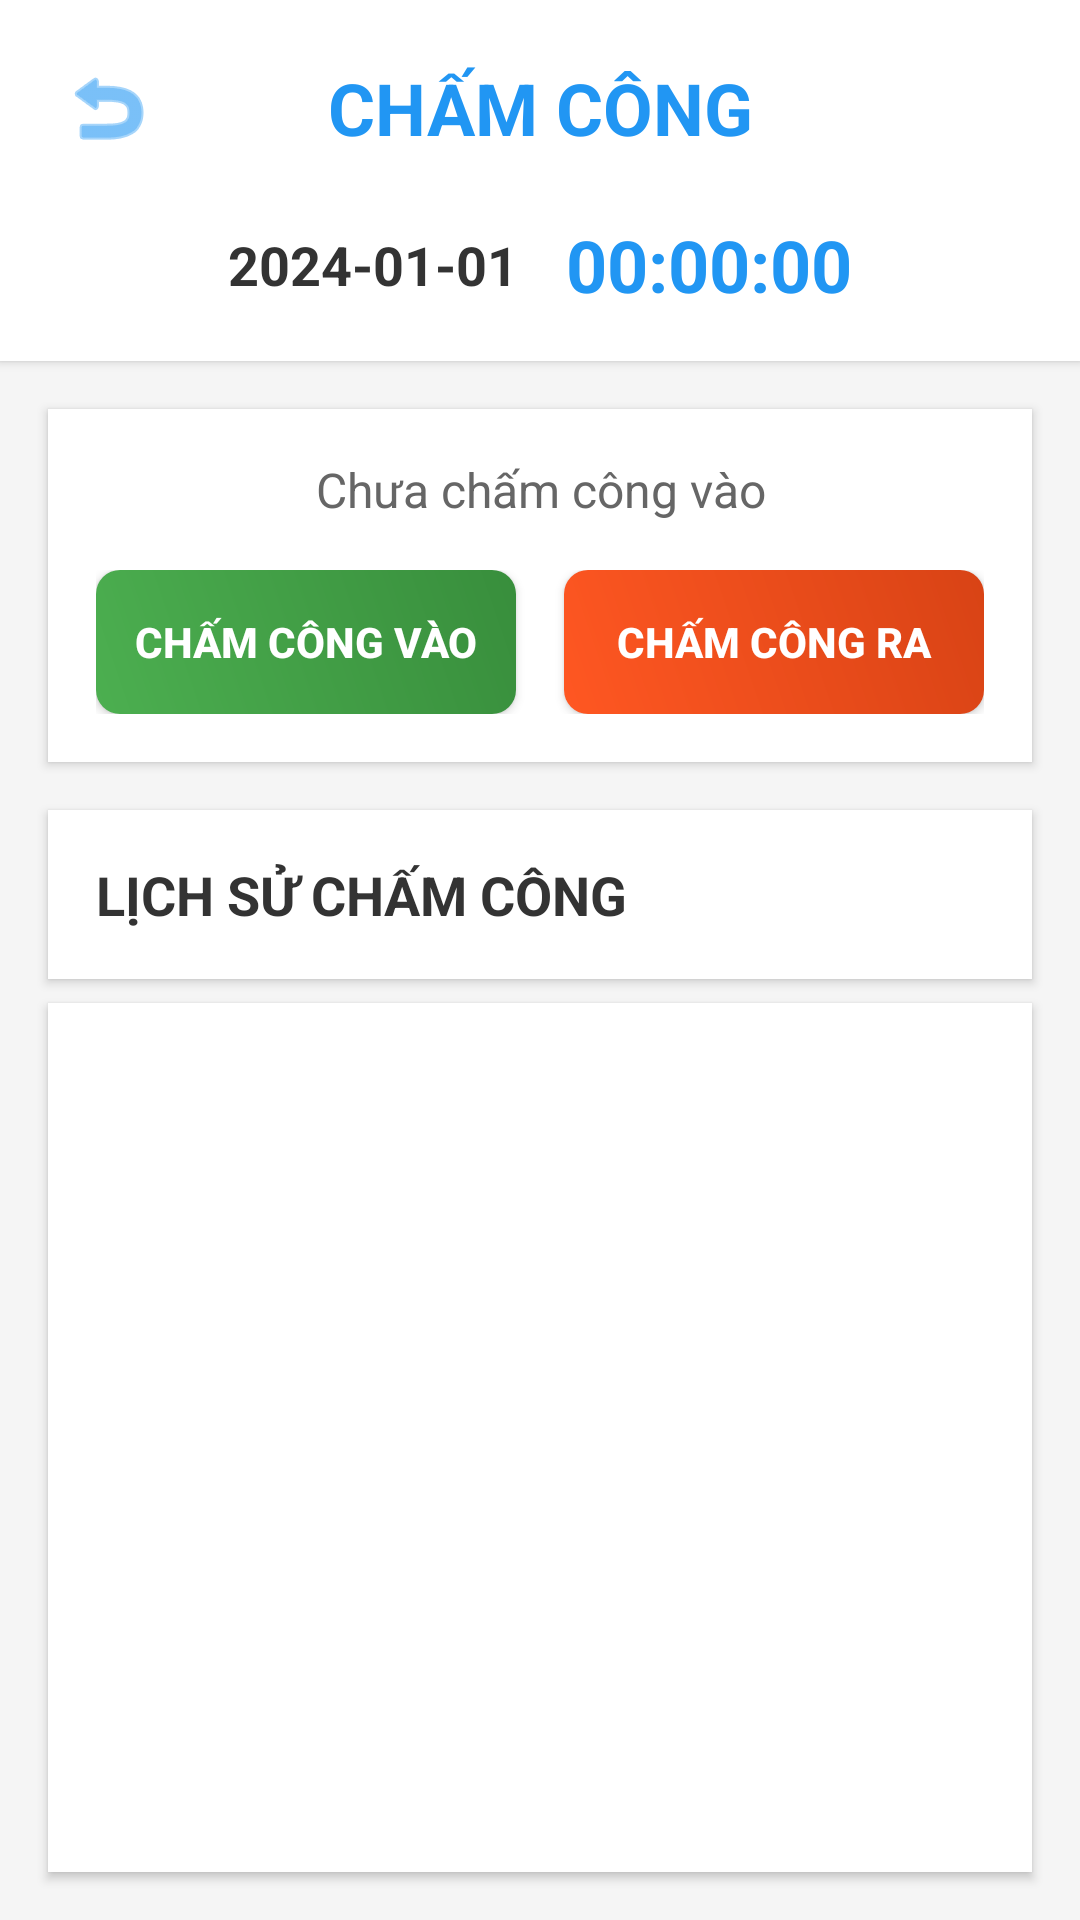

Named icons in this screenshot (1080px×1920px) and their bounding boxes, [x1, y1, x2, y2]:
revert: [75, 77, 144, 140]
